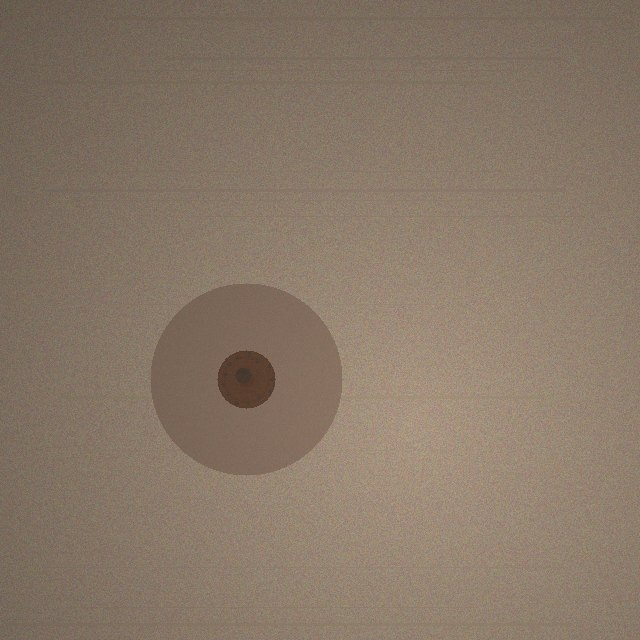cold_weld: (150, 283, 342, 475)
